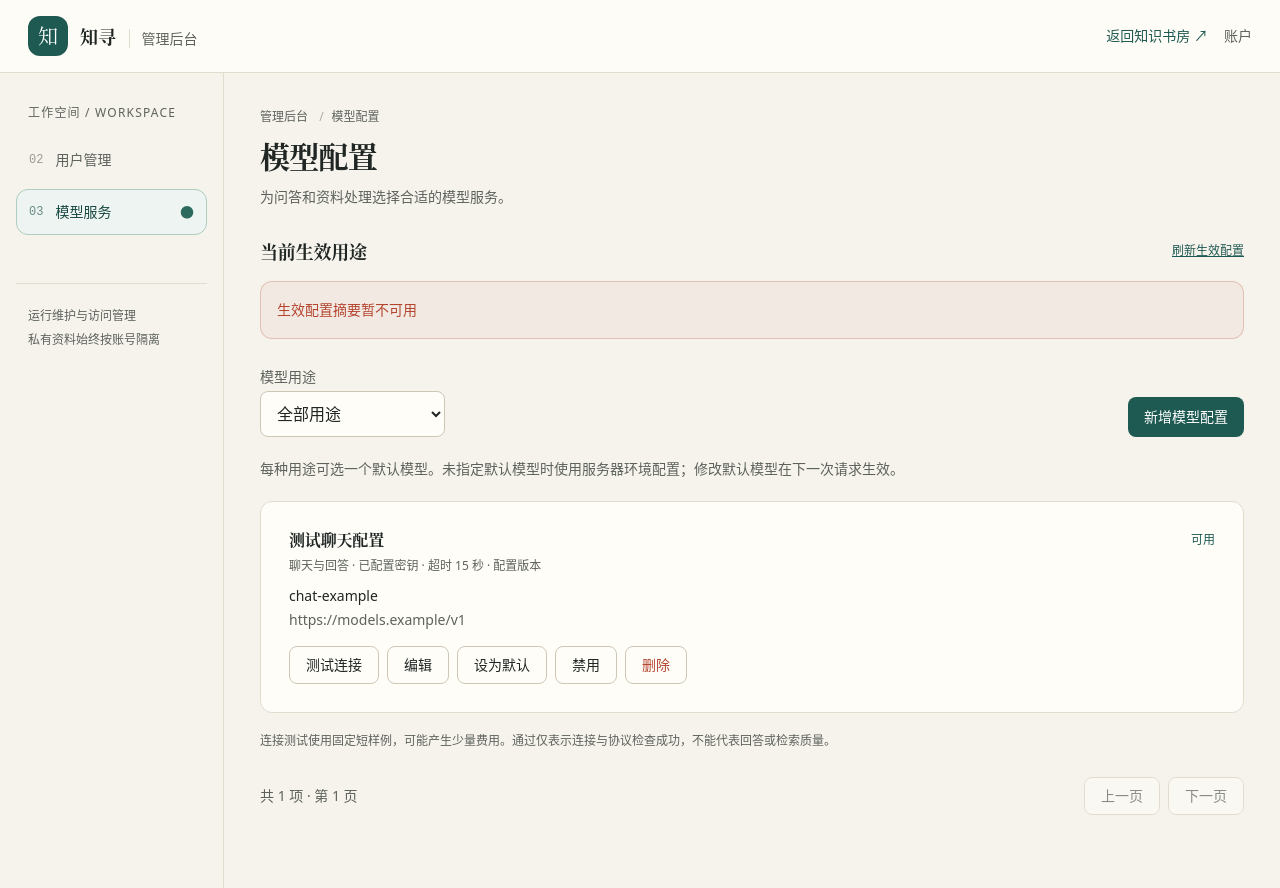
Test: 后台入口和模型配置 › 模型激活被拒绝时显示索引冲突原因
What coordinates should you click on to do the following:
click the button with test id "admin-model-activate"
I would click on:
 (502, 665)
Its box is [457,646,547,684].
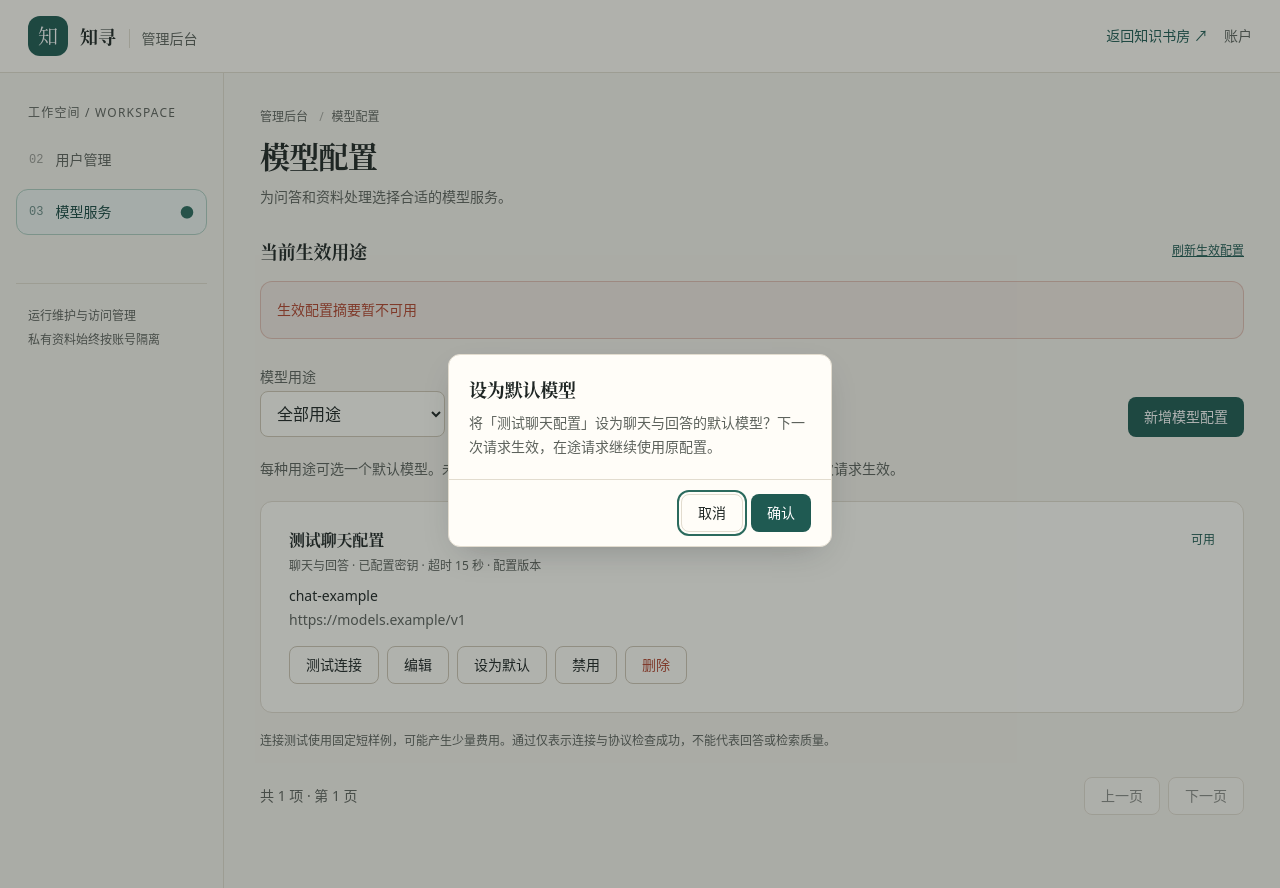
Now the button with test id "confirm-dialog-confirm-btn" is shown
What coordinates should you click on to do the following:
click the button with test id "confirm-dialog-confirm-btn"
I would click on:
 (781, 512)
Its box is [751,494,811,532].
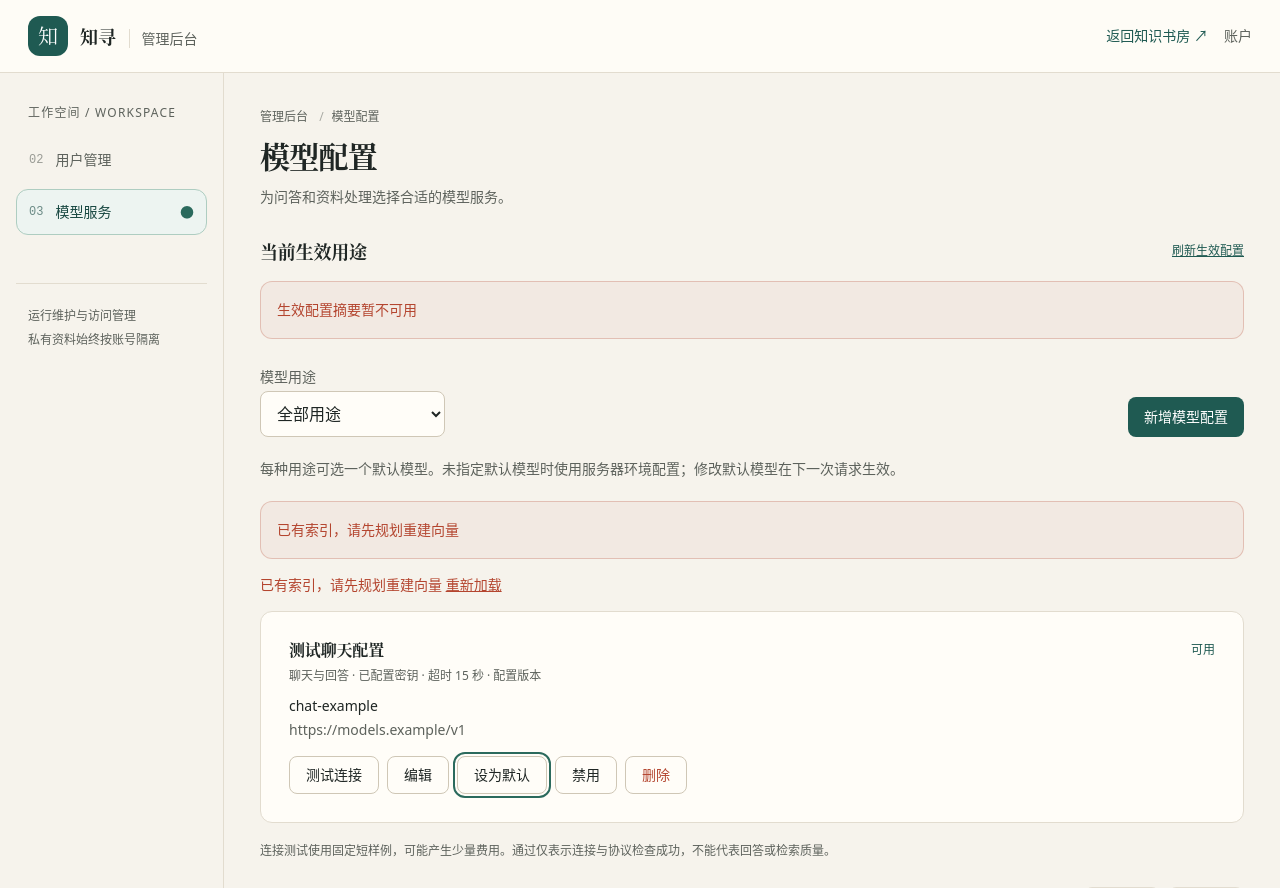
Expected: the button with test id "admin-model-activate" is shown, [457,756,547,794]
Now the text "已有索引，请先规划重建向量" is shown, box [277,520,459,539]
